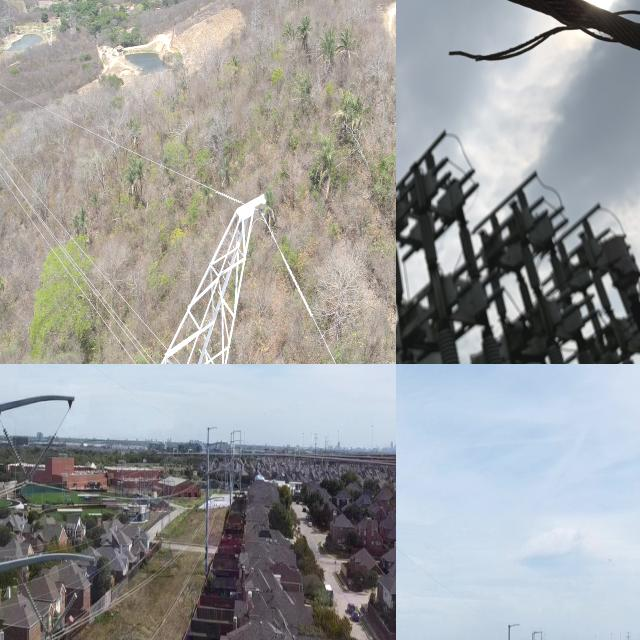杆塔: (24, 188, 325, 364)
正常绝缘子: (44, 584, 81, 640), (21, 578, 53, 640), (21, 431, 57, 484), (2, 426, 32, 484)
电缆破损: (396, 0, 640, 75)
